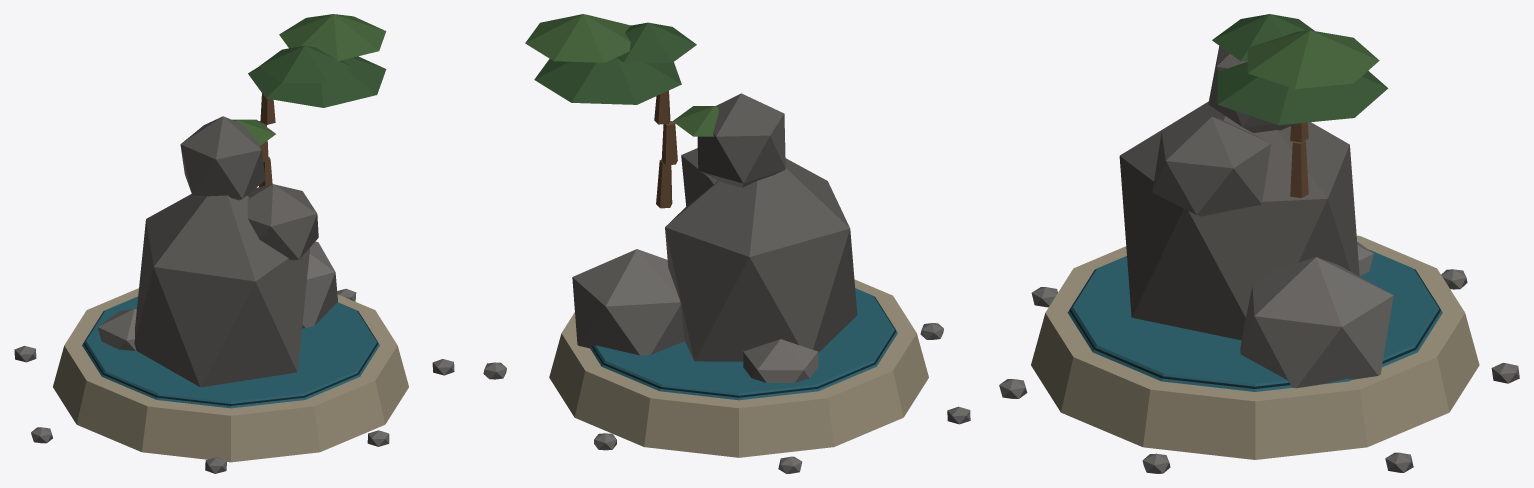
File: nonbo.glb
3 renders of one model, left to right at view 1: azimuth 30°, elevation 25°; view 2: azimuth 150°, elevation 25°; view 3: azimuth 270°, elevation 25°, orthographic. The views are drawn at different scales.
Parts seen in each view (by area): view 1: nonbo_body, water; view 2: nonbo_body, water; view 3: nonbo_body, water.
Part boxes in pixels (x1,y1,x2,y2): nonbo_body: (14,14,454,473); water: (82,296,379,408); nonbo_body: (483,14,970,473); water: (590,288,897,400); nonbo_body: (999,14,1519,473); water: (1067,249,1442,391).
Size of the model in its own units: 3.92 by 3.33 by 3.6.
